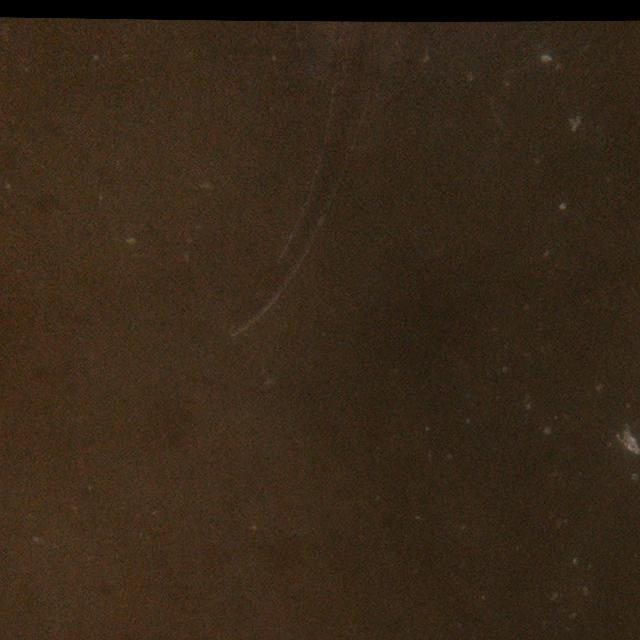skate: (208, 23, 430, 339)
